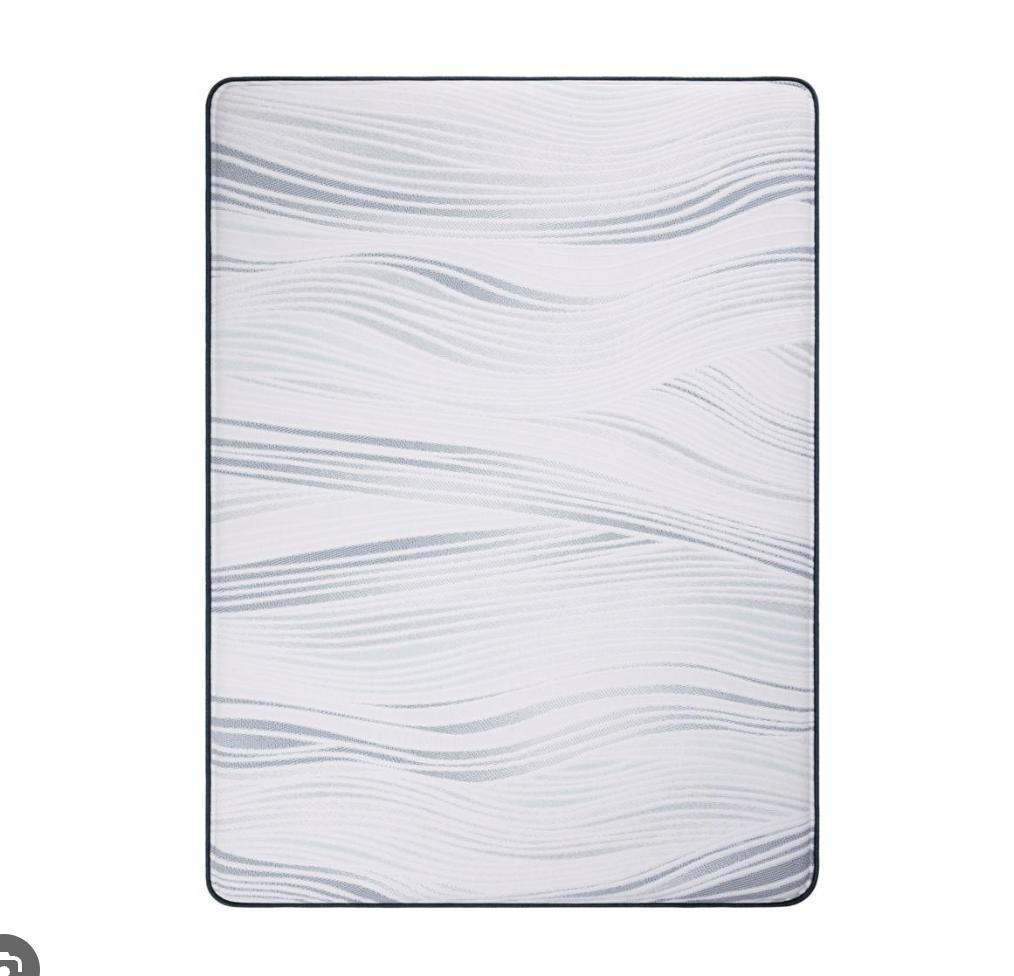Bed-Mattress: (199, 67, 830, 916)
